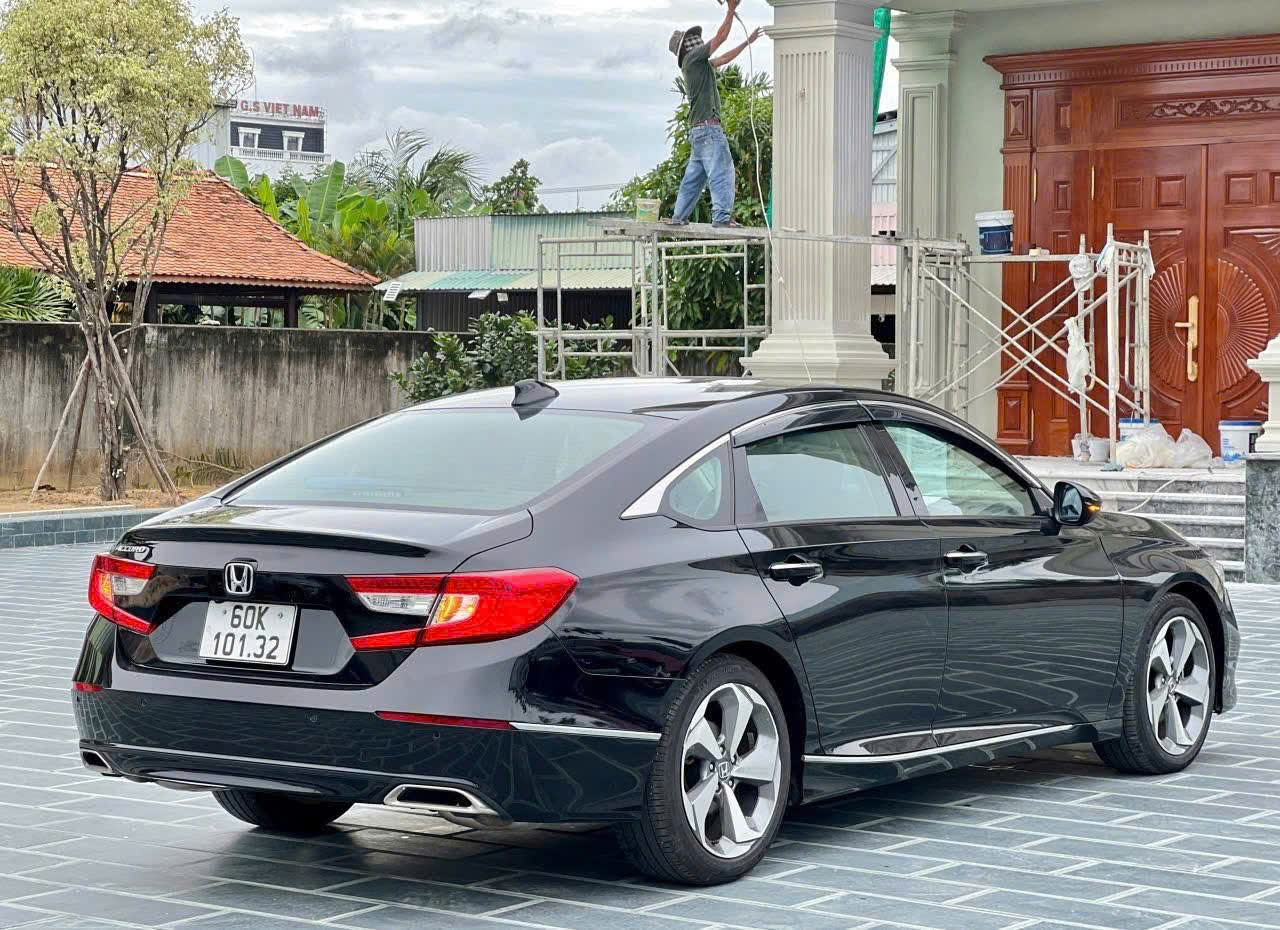Bien-so: (190, 597, 293, 665)
